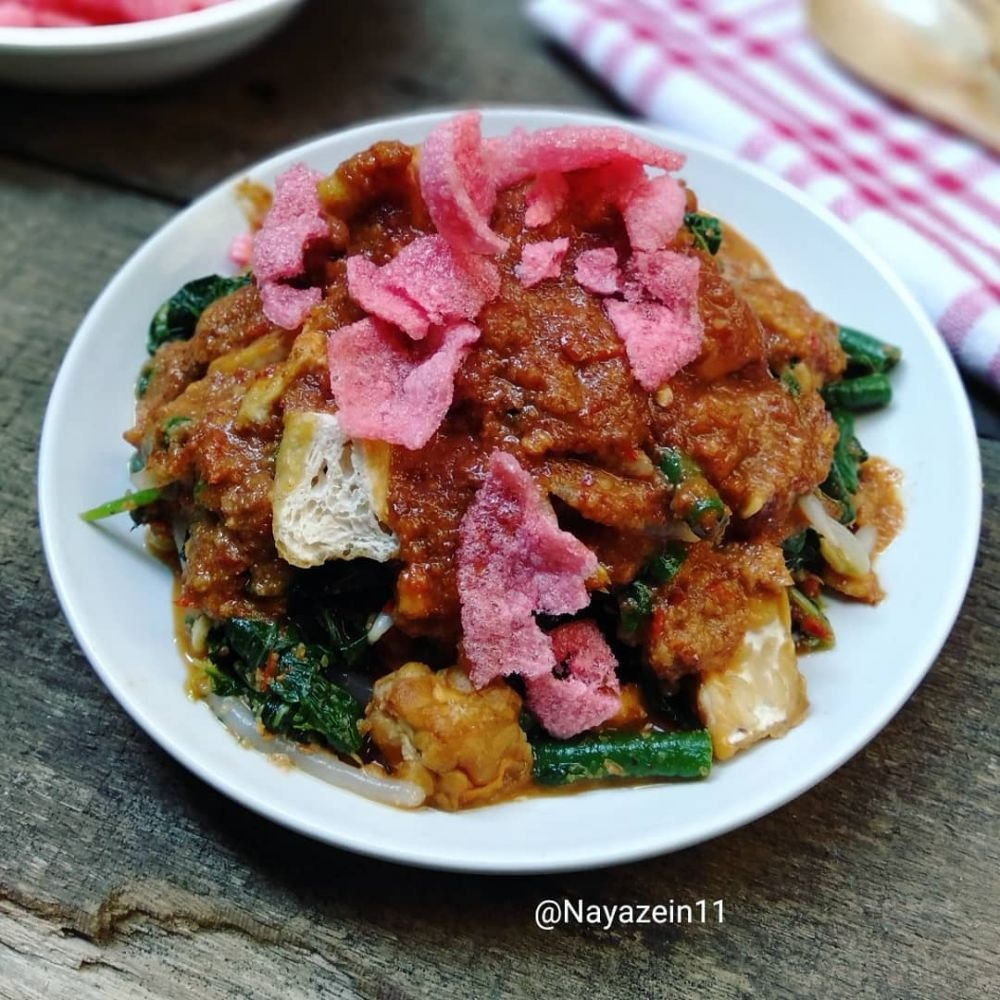pecel: (140, 150, 901, 769)
